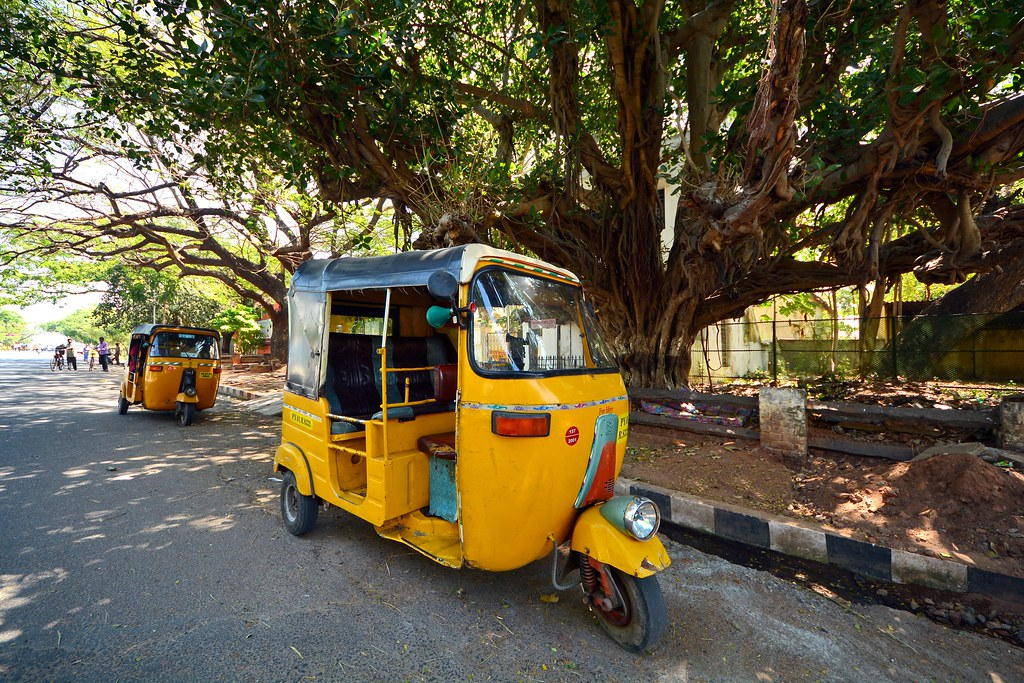auto: (274, 242, 684, 655), (115, 320, 229, 429)
